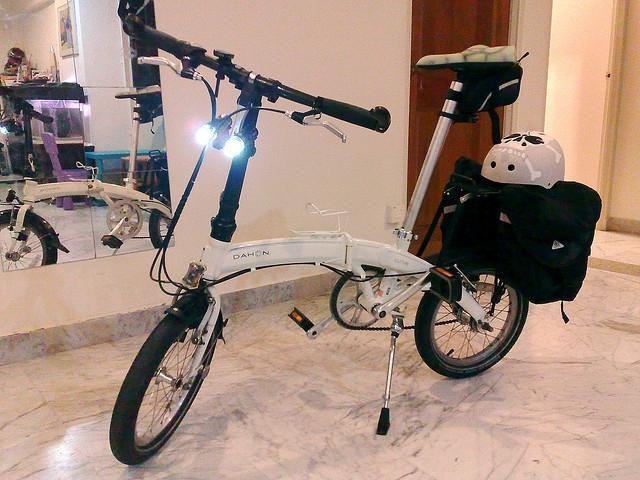bicycle: (108, 1, 532, 470)
